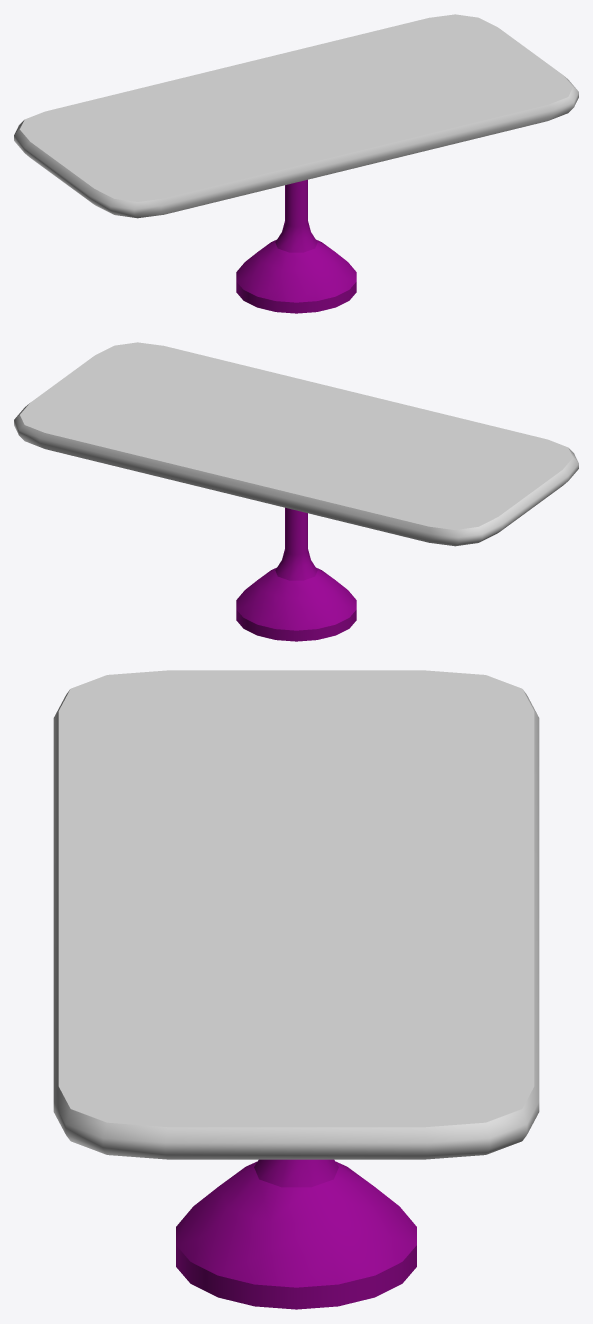
Rendered from Table.FBX.
3 renders of one model, top to bottom at view 1: azimuth 30°, elevation 25°; view 2: azimuth 150°, elevation 25°; view 3: azimuth 270°, elevation 25°, orthographic. The views are drawn at different scales.
Parts seen in each view (by area): view 1: PRP_Table_1; view 2: PRP_Table_1; view 3: PRP_Table_1.
Boxes of the visible parts, bbox=[...] form: PRP_Table_1: bbox=[14, 14, 578, 313]; PRP_Table_1: bbox=[14, 342, 578, 641]; PRP_Table_1: bbox=[53, 670, 539, 1309].
Bounding box in the file's own units: 201 × 72.08 × 88.42.
